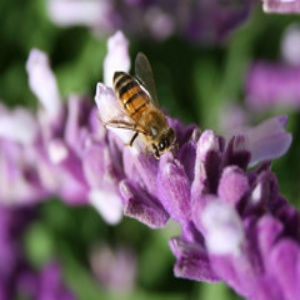bee: (105, 52, 180, 159)
